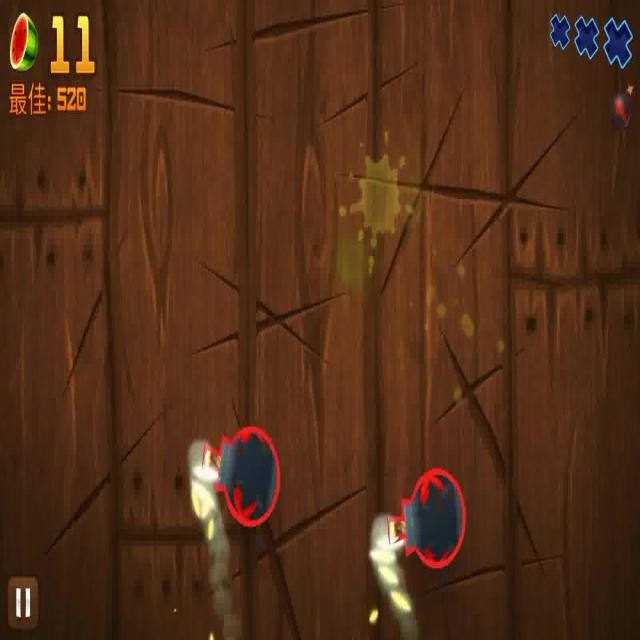bomb: (374, 460, 468, 573), (194, 415, 278, 531)
